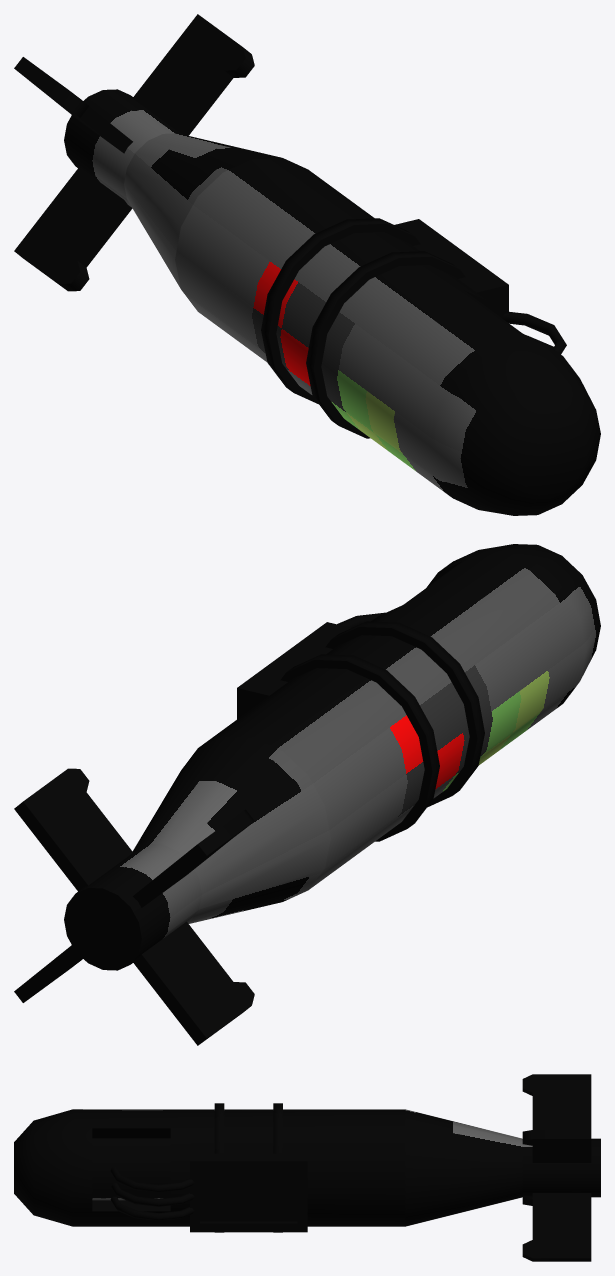
The model's file is fstbmb.obj.
The picture shows the model from 3 angles, top to bottom: view 1: azimuth 30°, elevation 25°; view 2: azimuth 150°, elevation 25°; view 3: azimuth 270°, elevation 25°; orthographic projection. The views are drawn at different scales.
Visible parts, largest first — view 1: Body; view 2: Body; view 3: Body, Balefire.
Part boxes in pixels (x1,y1,x2,y2): Body: (14,14,600,515); Body: (14,544,600,1045); Body: (14,1074,600,1261); Balefire: (92,1138,170,1200).
Size of the model in its own units: 2.03 by 1.86 by 7.5.
